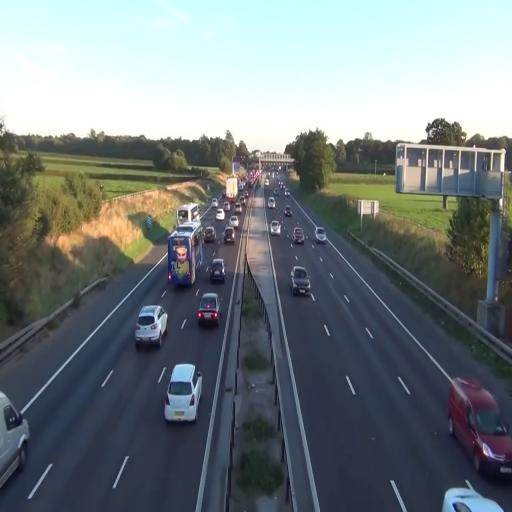vehicle: (447, 375, 512, 480), (0, 390, 31, 491), (164, 363, 204, 423), (441, 484, 505, 512), (166, 231, 194, 287), (134, 304, 168, 349), (177, 202, 203, 244), (197, 291, 221, 328), (290, 266, 312, 296), (208, 256, 226, 285), (202, 225, 216, 244), (293, 226, 305, 245), (224, 224, 235, 244), (270, 219, 282, 235), (316, 228, 326, 242)
